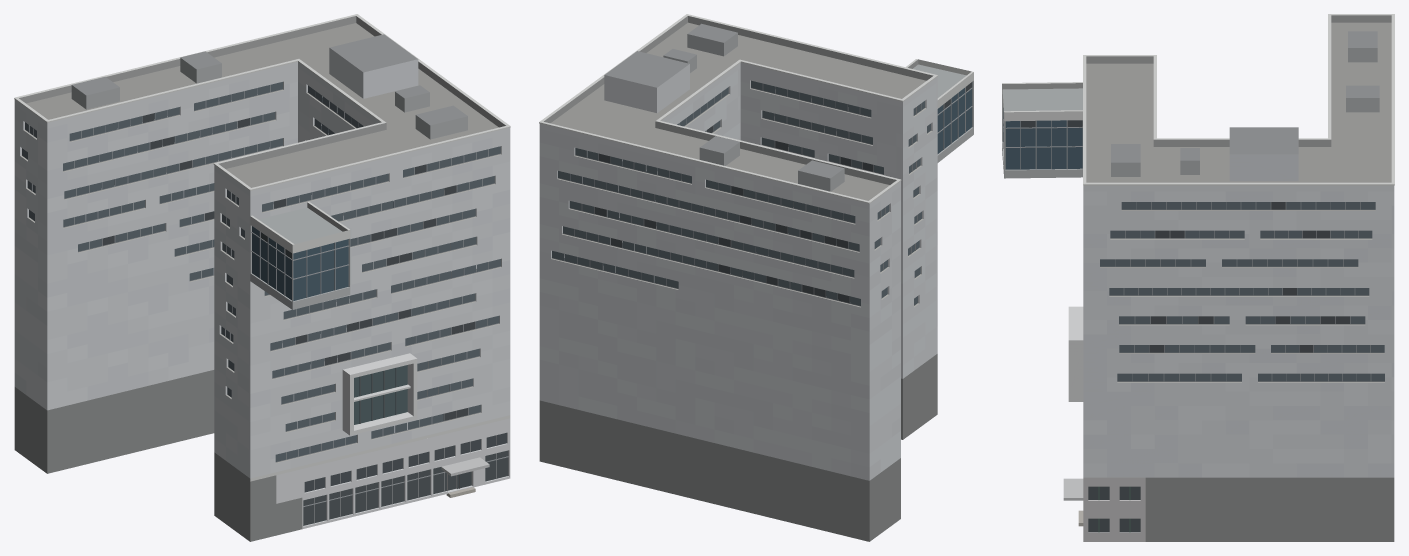
3 renders of one model, left to right at view 1: azimuth 30°, elevation 25°; view 2: azimuth 150°, elevation 25°; view 3: azimuth 270°, elevation 25°, orthographic. The views are drawn at different scales.
Visible parts, largest first — view 1: s20__whiteA, s20__whiteC, s20__whiteB, s20__glassRoom20, s20__wallBase, s20__roofGravel, s20__podiumPanel, s20__frameGrey, s20__coping, s20__parapetIn, s20__glassBridge, s20__sill (+9 smaller); view 2: s20__whiteB, s20__whiteC, s20__whiteA, s20__wallBase, s20__roofGravel, s20__glassRoom20, s20__coping, s20__parapetIn, s20__frameGrey, s20__roofDark, s20__sill, s20__equipment (+3 smaller); view 3: s20__whiteA, s20__whiteB, s20__whiteC, s20__roofGravel, s20__wallBase, s20__glassRoom20, s20__coping, s20__frameGrey, s20__roofDark, s20__glassBridge, s20__granite, s20__parapetIn (+8 smaller).
Boxes of the visible parts, x1,y1,x2,y2 form: s20__whiteA: (14, 62, 510, 478); s20__whiteC: (14, 67, 510, 473); s20__whiteB: (14, 48, 510, 459); s20__glassRoom20: (22, 82, 500, 461); s20__wallBase: (14, 361, 456, 541); s20__roofGravel: (26, 23, 498, 187); s20__podiumPanel: (276, 418, 510, 529); s20__frameGrey: (28, 85, 508, 523); s20__coping: (14, 14, 510, 481); s20__parapetIn: (19, 16, 505, 231); s20__glassBridge: (252, 226, 348, 300); s20__sill: (20, 90, 501, 463); s20__whiteB: (539, 64, 937, 480); s20__whiteC: (539, 70, 937, 472); s20__whiteA: (539, 62, 937, 476); s20__wallBase: (539, 354, 937, 541); s20__roofGravel: (550, 22, 926, 200); s20__glassRoom20: (552, 80, 930, 305); s20__coping: (539, 14, 973, 203); s20__parapetIn: (544, 16, 933, 203); s20__frameGrey: (552, 83, 972, 306); s20__roofDark: (605, 23, 843, 178); s20__sill: (551, 88, 932, 307); s20__equipment: (663, 33, 844, 191); s20__whiteA: (1083, 185, 1394, 477); s20__whiteB: (1083, 154, 1394, 477); s20__whiteC: (1083, 191, 1394, 477); s20__roofGravel: (1086, 22, 1391, 182); s20__wallBase: (1145, 477, 1394, 541); s20__glassRoom20: (1100, 202, 1384, 381); s20__coping: (1002, 14, 1394, 185); s20__frameGrey: (1002, 112, 1384, 381); s20__roofDark: (1111, 31, 1379, 162); s20__glassBridge: (1003, 108, 1082, 169); s20__granite: (1083, 477, 1145, 541); s20__parapetIn: (1002, 15, 1391, 146).
Size of the model in its own units: 40.8 by 42.5 by 39.8.
